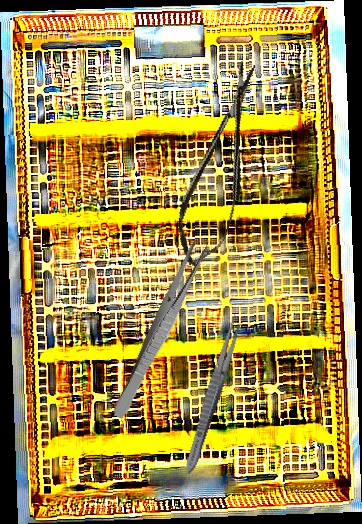Dressing Forceps: (110, 238, 211, 423), (181, 312, 245, 476)
Micro Scissor: (164, 57, 280, 273)
